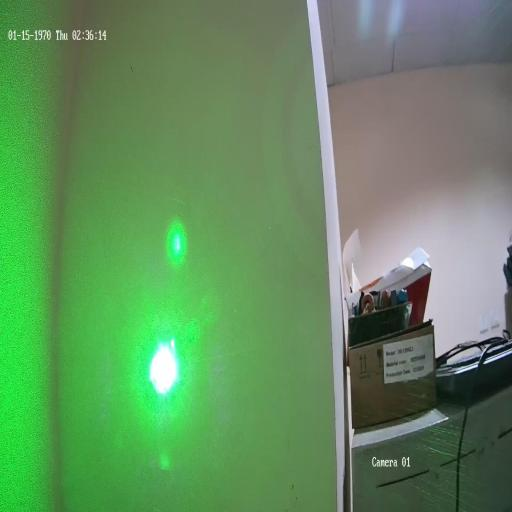laser: (142, 324, 186, 412)
